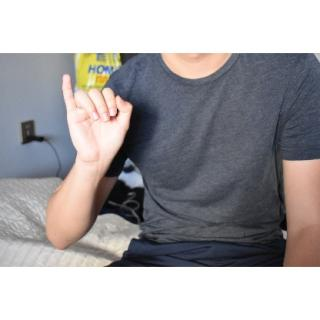MEEM: (63, 70, 135, 164)
